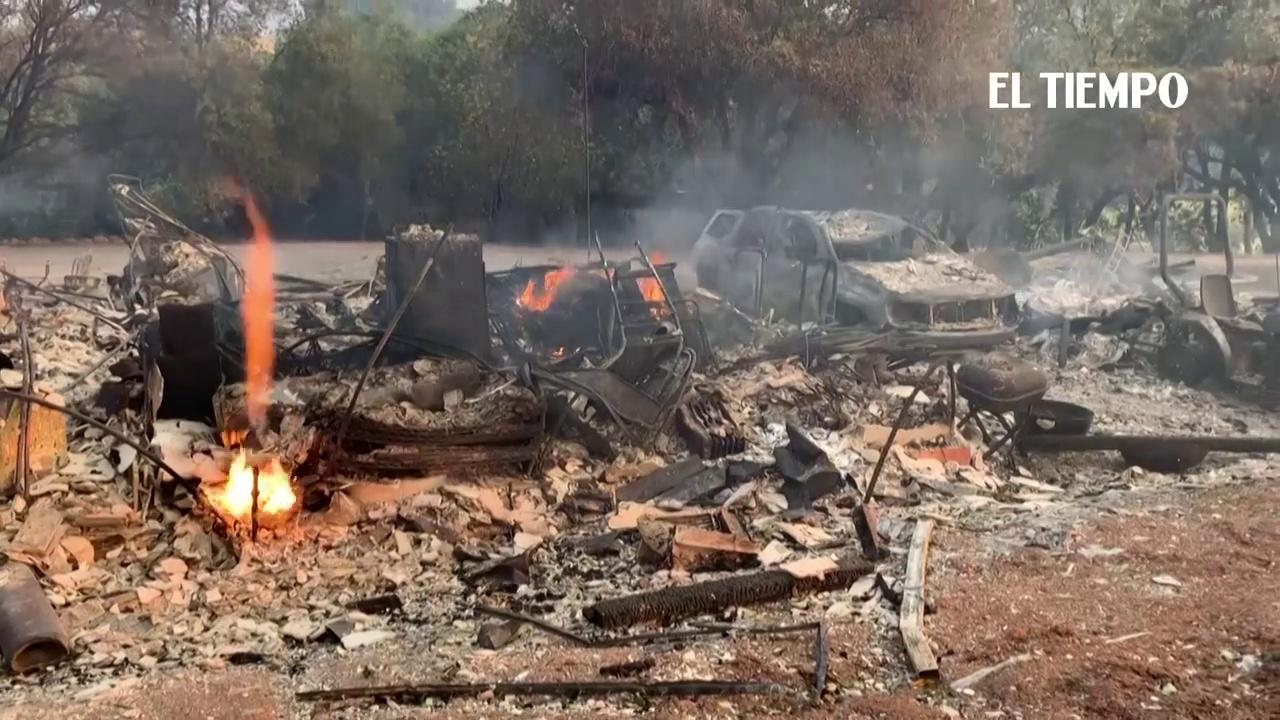Fire: (235, 196, 287, 418), (213, 460, 300, 520), (515, 267, 571, 313), (646, 251, 668, 297)
